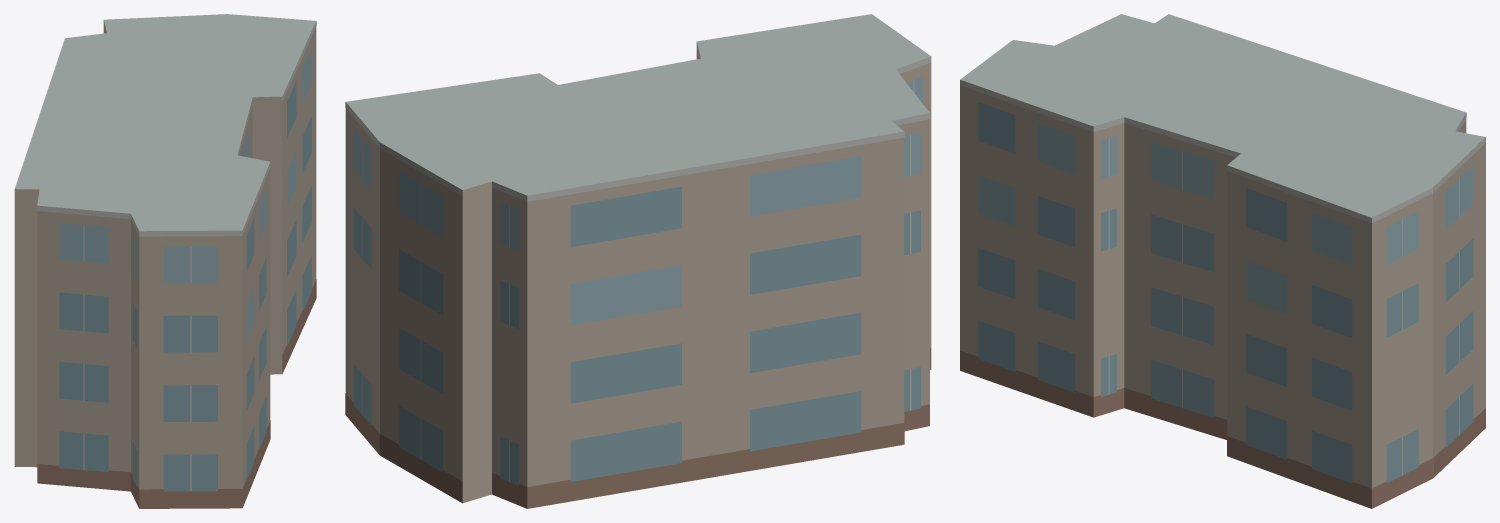
The model's file is survey-upis-32468091.glb.
3 renders of one model, left to right at view 1: azimuth 30°, elevation 25°; view 2: azimuth 150°, elevation 25°; view 3: azimuth 270°, elevation 25°, orthographic. The views are drawn at different scales.
Parts seen in each view (by area): view 1: survey-upis-32468091.tmp; view 2: survey-upis-32468091.tmp; view 3: survey-upis-32468091.tmp.
Boxes of the visible parts, box(x1,y1,x2,y2) form: survey-upis-32468091.tmp: box(14, 14, 316, 508); survey-upis-32468091.tmp: box(345, 14, 931, 508); survey-upis-32468091.tmp: box(960, 14, 1485, 508).
Size of the model in its own units: 18.71 by 12.45 by 20.39.
